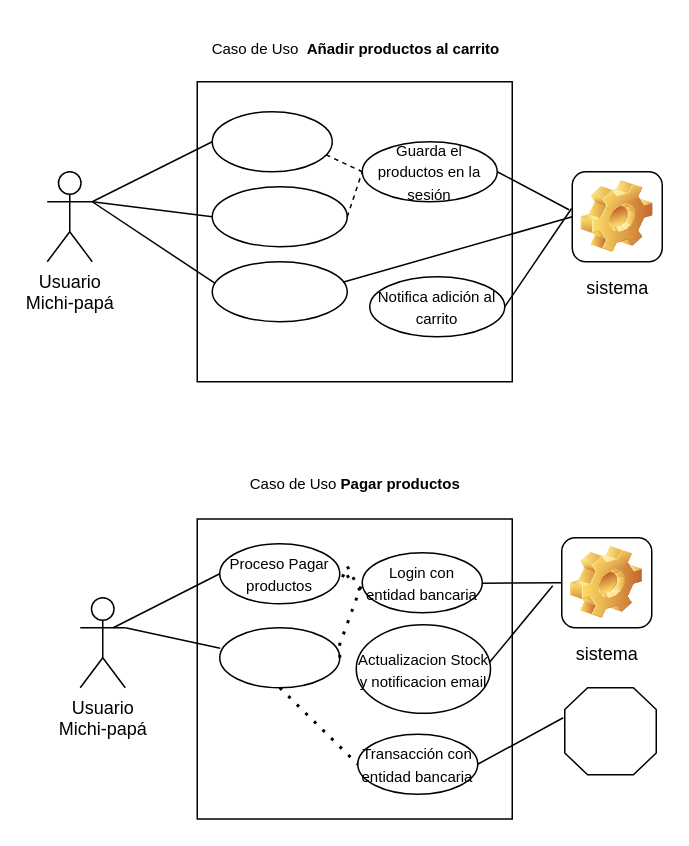
The diagram is 689 pixels wide and 846 high, and some of its shapes have lost their labels. Here are the shapes that lost their labels. From the top down, the centre of each, then its label:
At [271,141]: "Añadir productos al carrito".
At [279,216]: "Añadir productos a lista deseos".
At [279,291]: "Administrar cuenta".
At [279,657]: "Ingresar datos bancarios".
At [609,730]: "Entidad bancaria".
